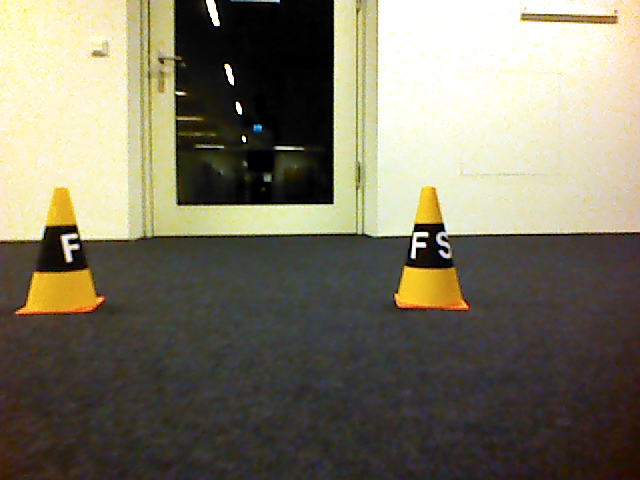yellowcone: (12, 186, 109, 318), (393, 184, 469, 312)
